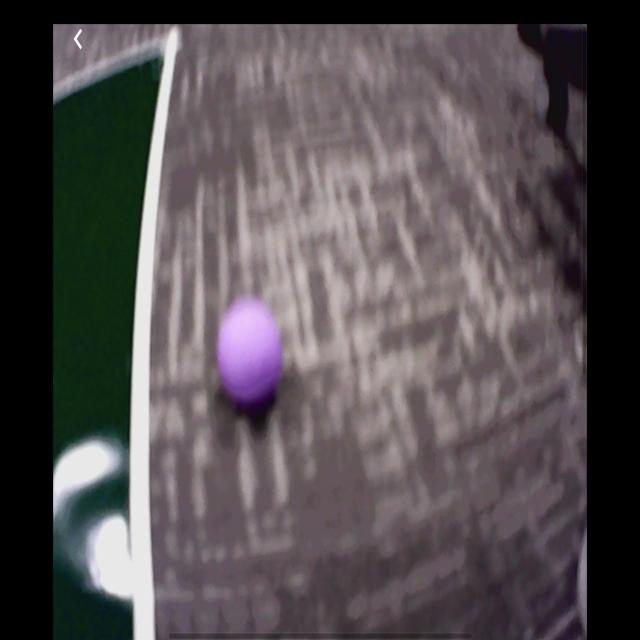ball: (216, 294, 285, 412)
